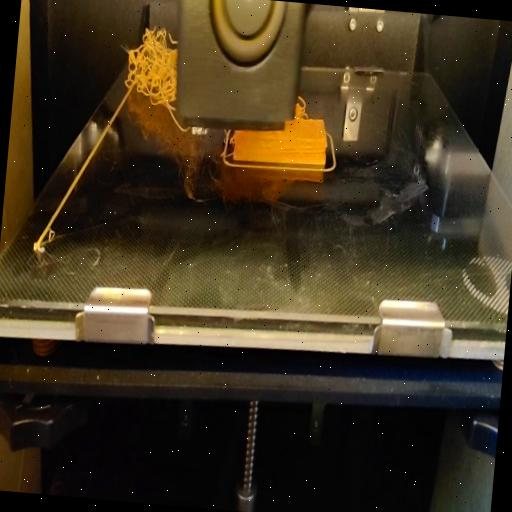spaghetti: (118, 22, 178, 112), (170, 112, 190, 140)
